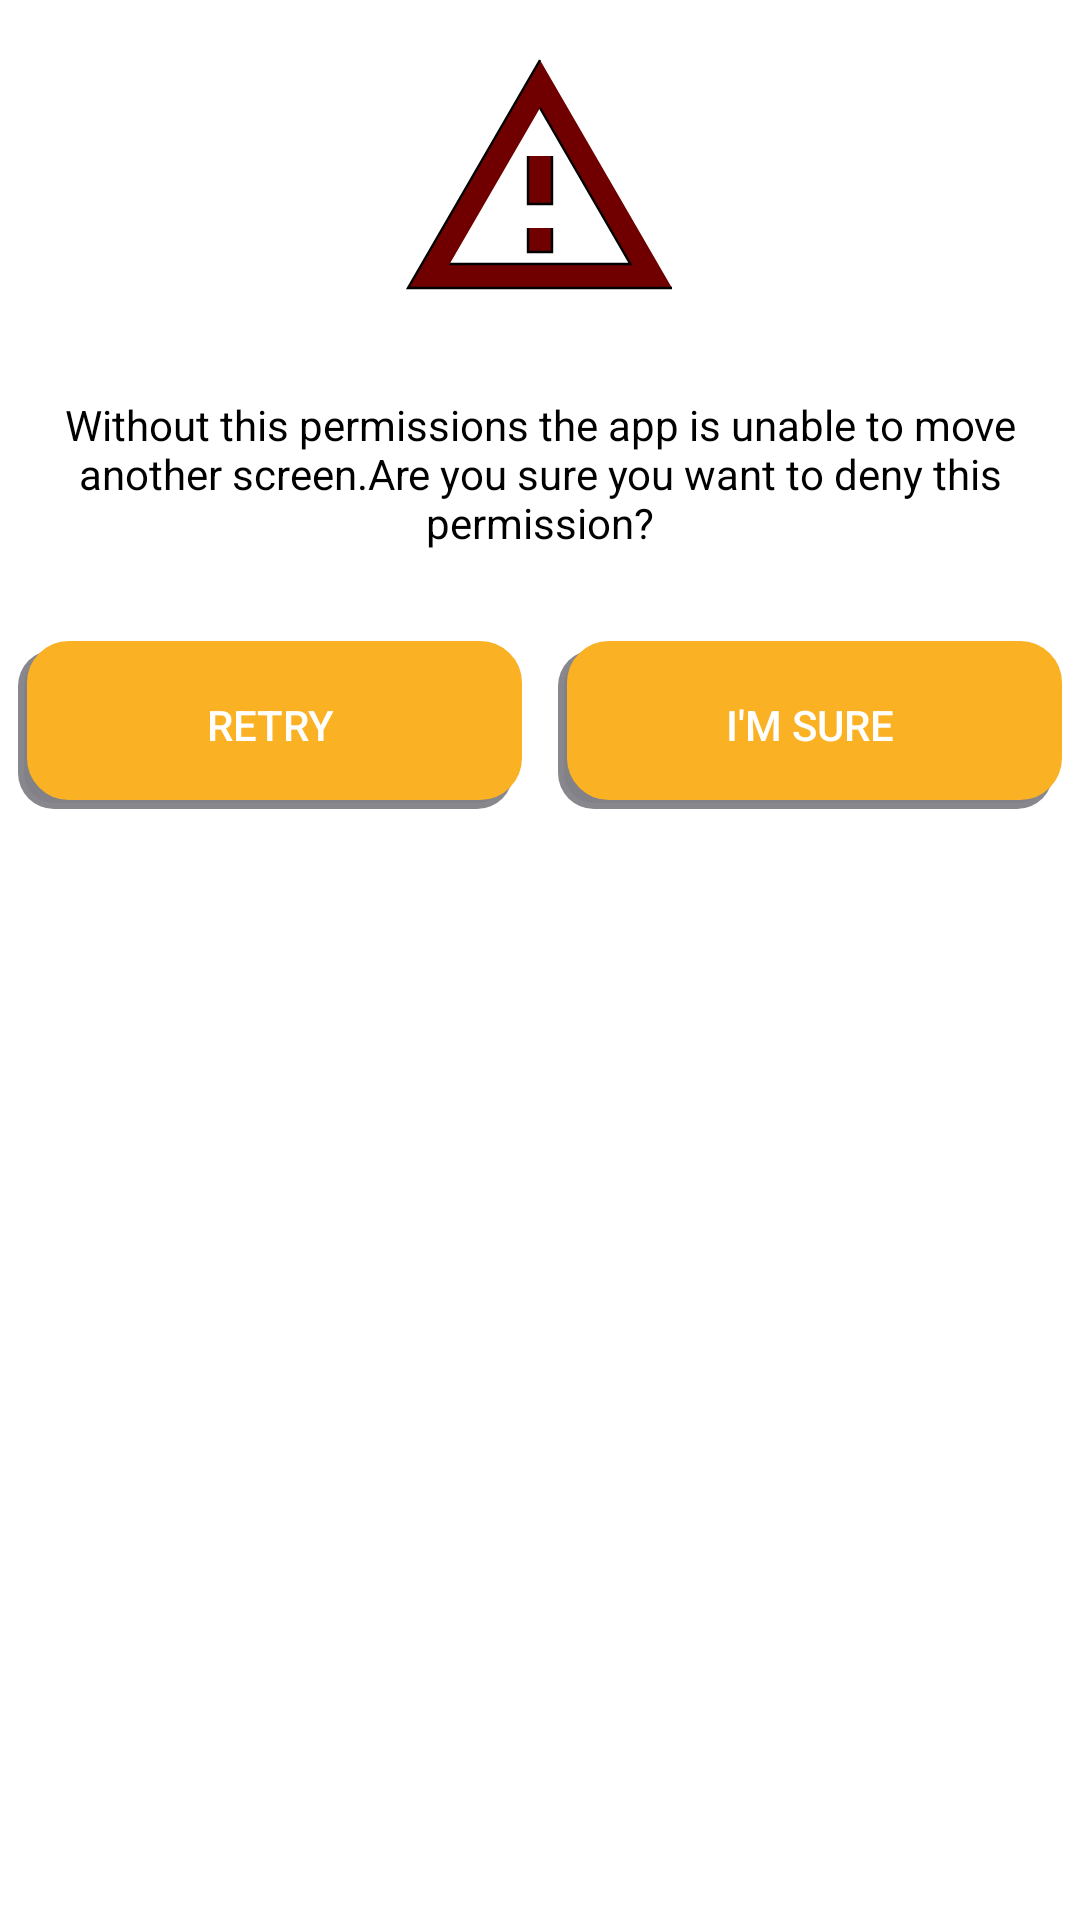

Named icons in this screenshot (1080px x 1920px) and their centers, point (x, y):
alert: point (539, 174)
